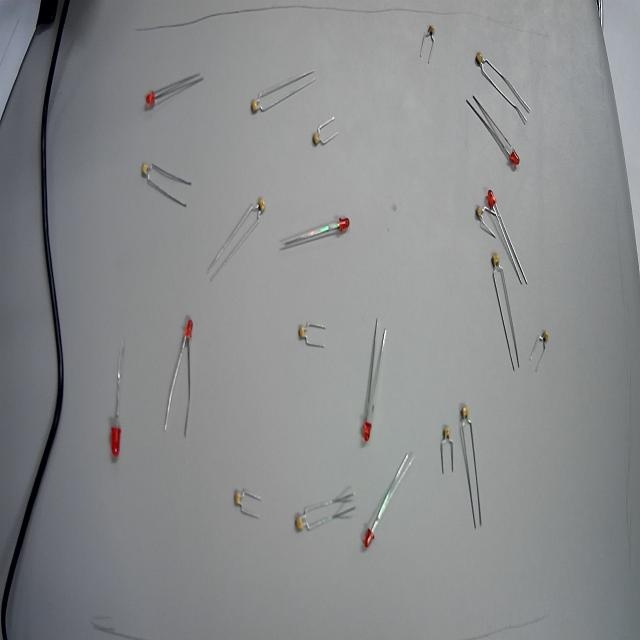LED_red: (166, 304, 202, 361), (108, 401, 131, 478), (497, 124, 522, 180), (356, 403, 379, 456), (140, 73, 167, 118), (331, 203, 360, 244), (356, 521, 384, 559), (484, 178, 504, 224)
capacitor: (231, 470, 262, 535), (293, 304, 323, 366), (305, 105, 341, 155), (291, 502, 328, 546), (132, 158, 168, 199), (243, 91, 277, 134), (527, 320, 551, 377), (453, 401, 481, 449), (438, 423, 457, 489), (421, 18, 441, 76), (473, 38, 499, 81), (244, 192, 274, 229), (470, 192, 486, 252), (487, 255, 505, 297)
